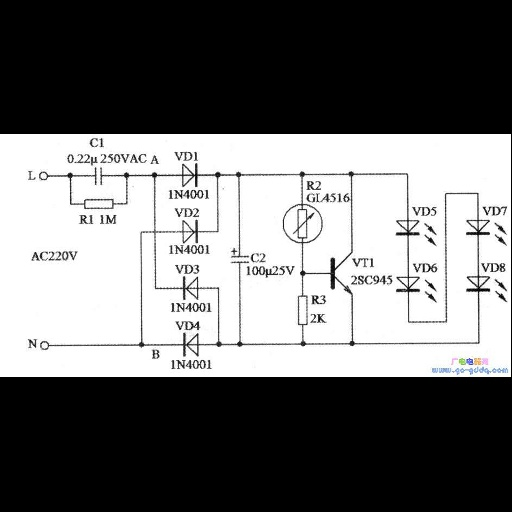capacitor: (88, 167, 107, 185)
firstpolarcapacitor: (226, 247, 251, 266)
firstresistance: (294, 292, 310, 328), (79, 197, 116, 211)
seconddiode: (175, 162, 203, 188), (177, 332, 205, 357), (178, 274, 203, 300), (179, 218, 203, 244)
secondled: (390, 215, 439, 249), (393, 273, 437, 305), (462, 216, 507, 247), (462, 273, 507, 303)
